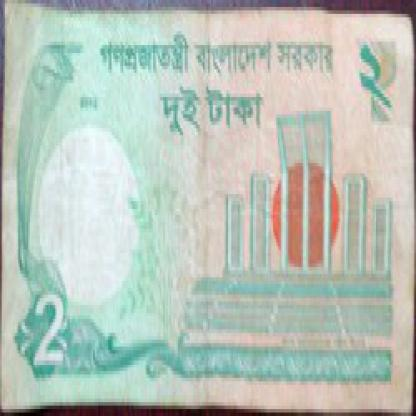two taka: (25, 270, 75, 385), (351, 38, 399, 121)
